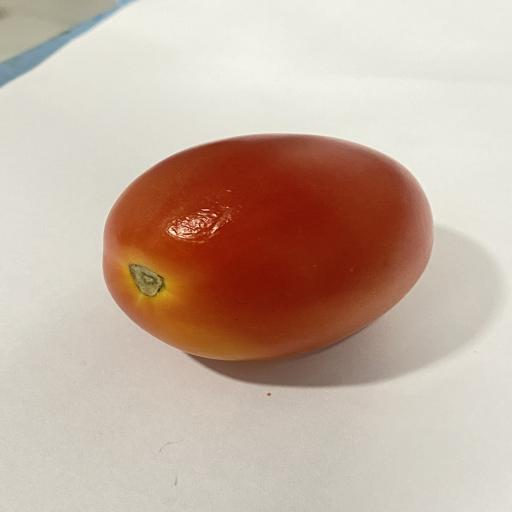overipe: (103, 134, 432, 360)
